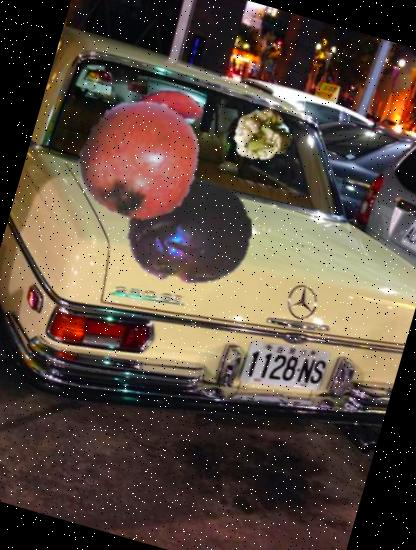Banana: (93, 67, 220, 194)
Cauliflower: (226, 97, 300, 170)
Passion: (110, 152, 266, 310)
Pomegranate: (65, 84, 216, 236)
